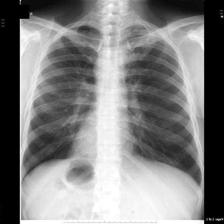tuberculosis: (19, 19, 204, 200)
